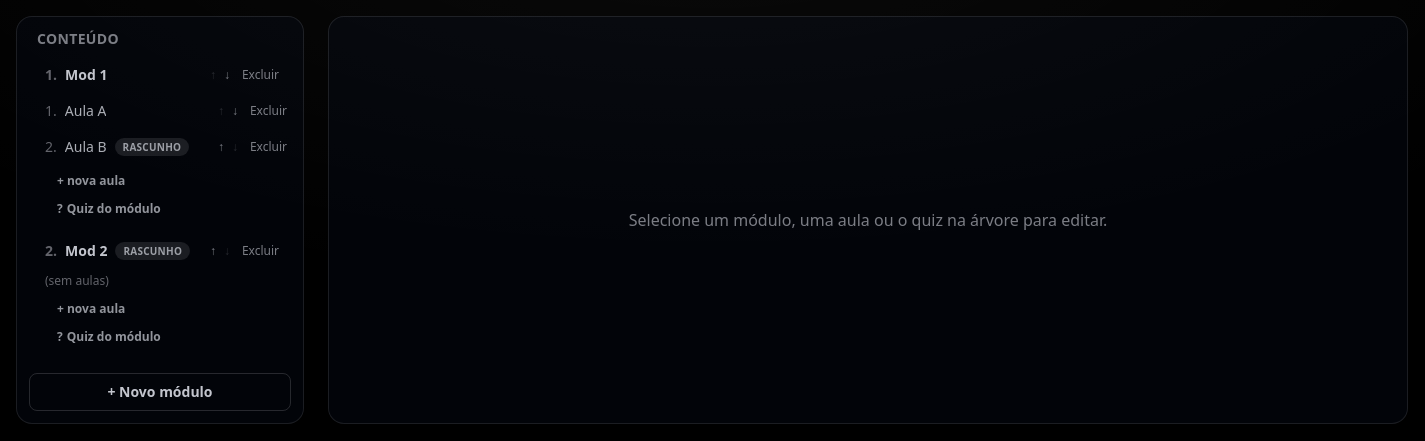
Test: AuthorPage › selecionar o quiz de um módulo abre o QuizEditor dele
The width and height of the screenshot is (1425, 441).
// O 1º "Quiz do módulo" pertence ao m1.
Click the 1st button "? Quiz do módulo" at (109, 209), box [45,197,173,221]
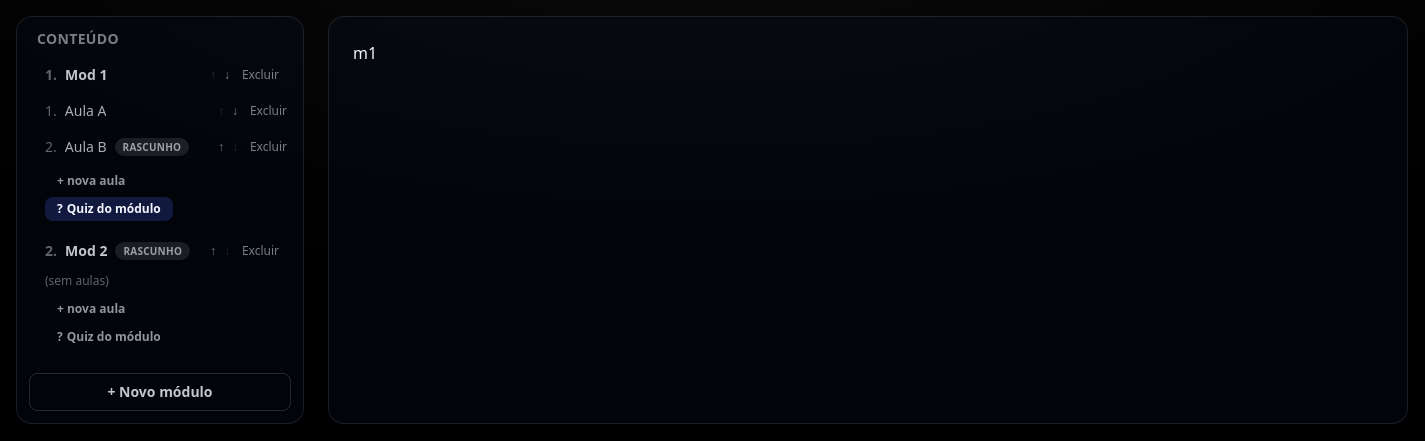
Check: the text with test id "editing-quiz" reads "m1", box [353,42,377,64]
